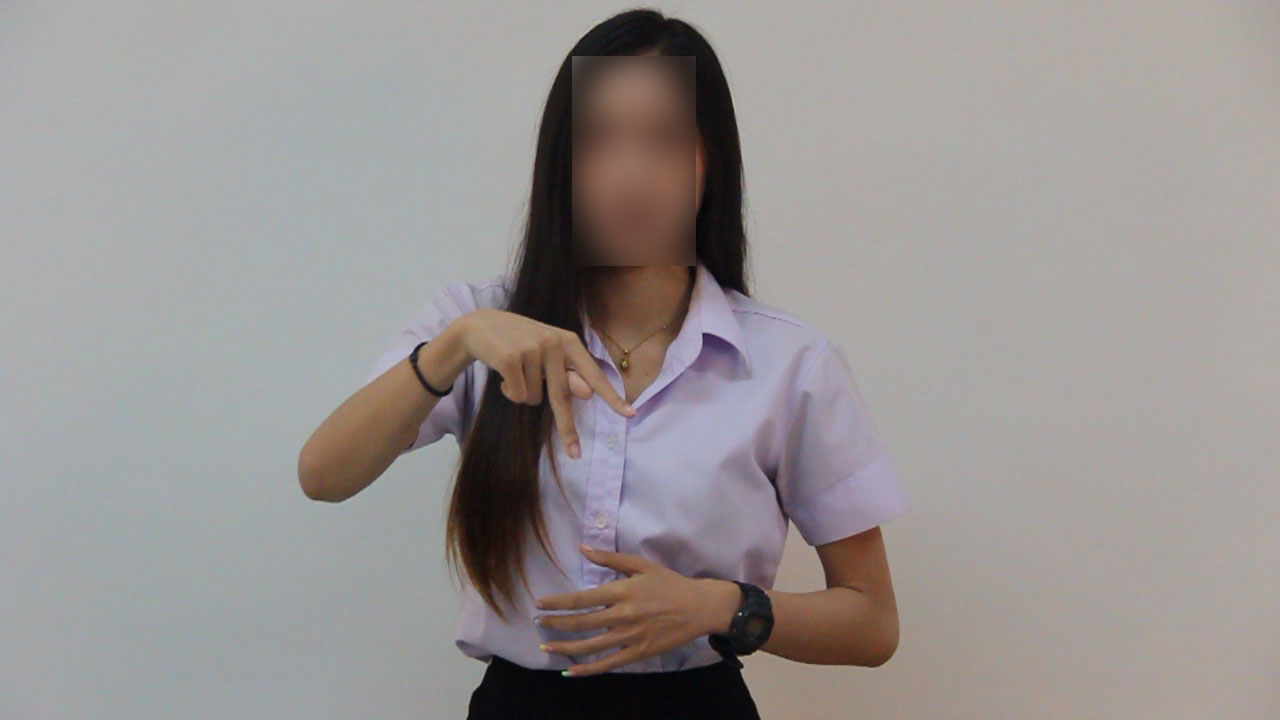por: (456, 292, 646, 467)
